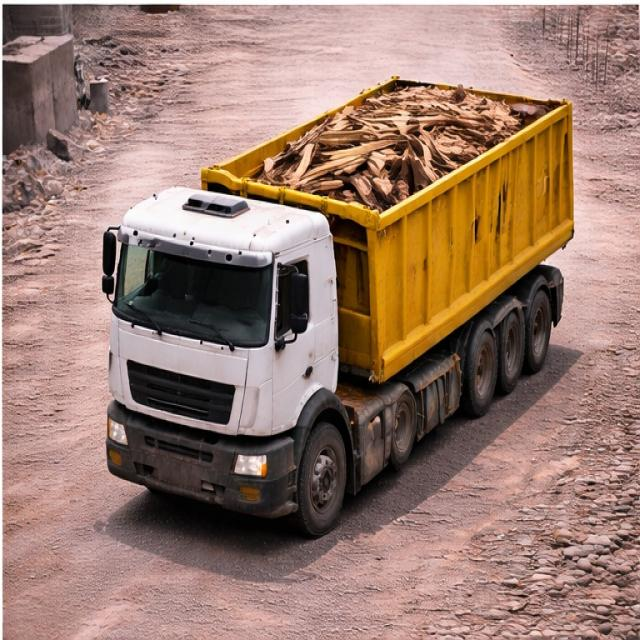trailer: (200, 71, 581, 235)
truck: (86, 52, 608, 525)
